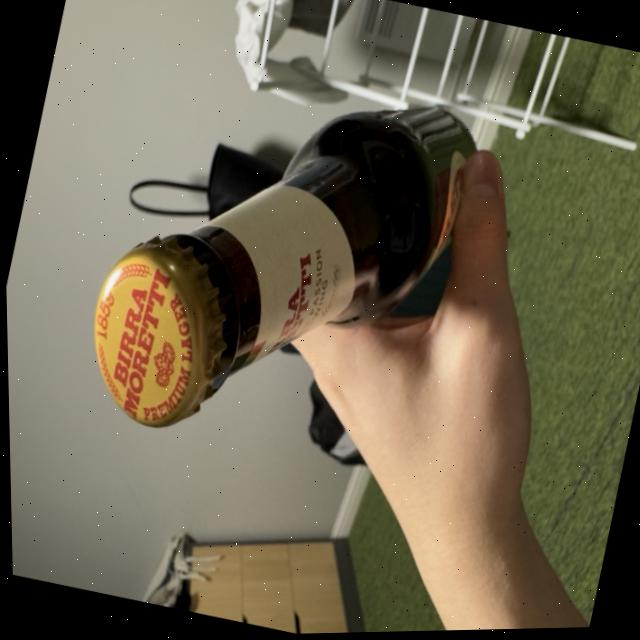beer: (63, 34, 493, 487)
